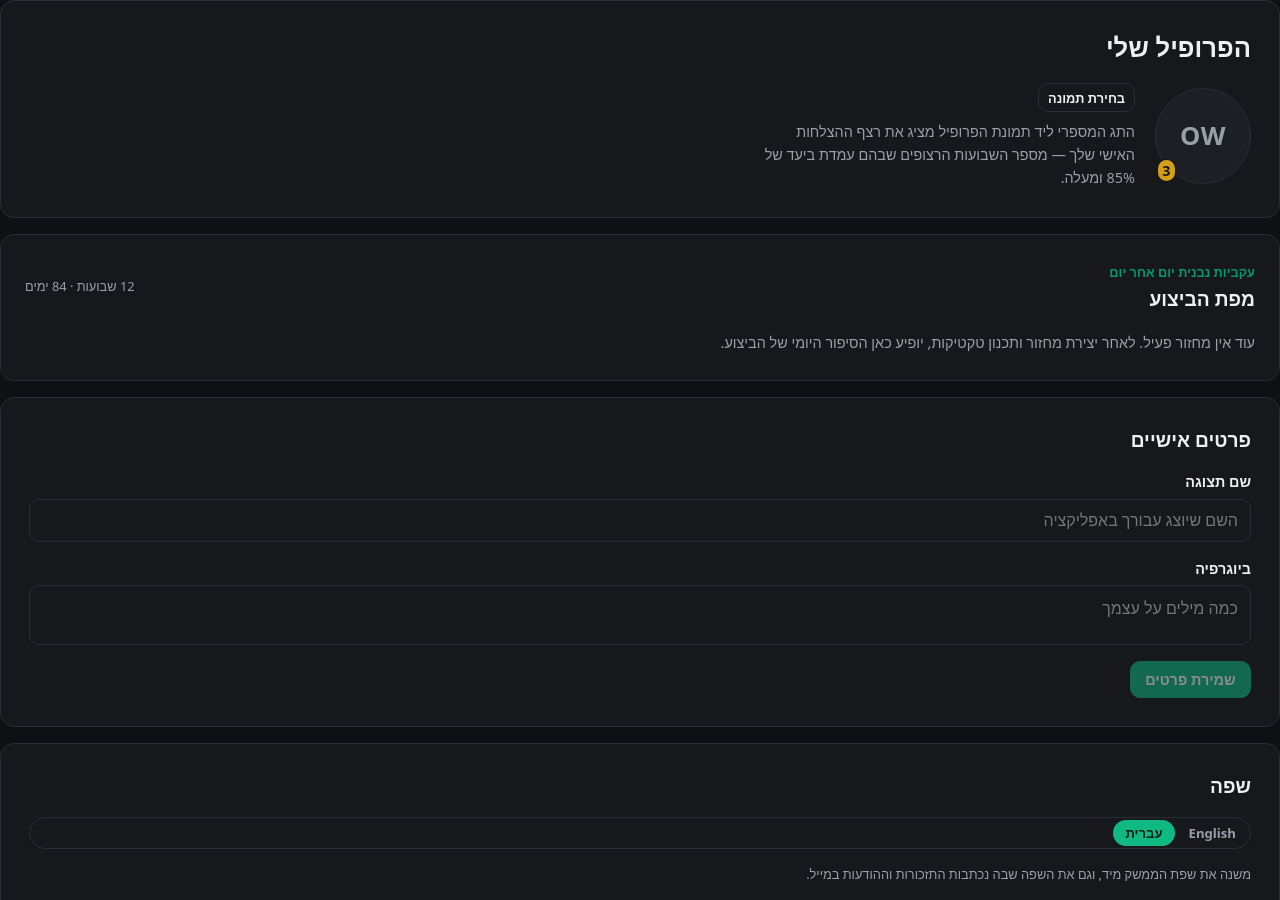
Scenario: ProfilePage › saves display name and bio via PATCH, trimming is left to the server but the button is disabled while empty
This screenshot has width=1280, height=900.
Check: the heading "הפרופיל שלי" is shown, box left=1106, top=30, right=1251, bottom=65
Check: the button "שמירת פרטים" is disabled, box left=1130, top=661, right=1251, bottom=698
Type "אורי" into the field labelled "שם תצוגה" at (640, 520), box left=29, top=499, right=1251, bottom=542
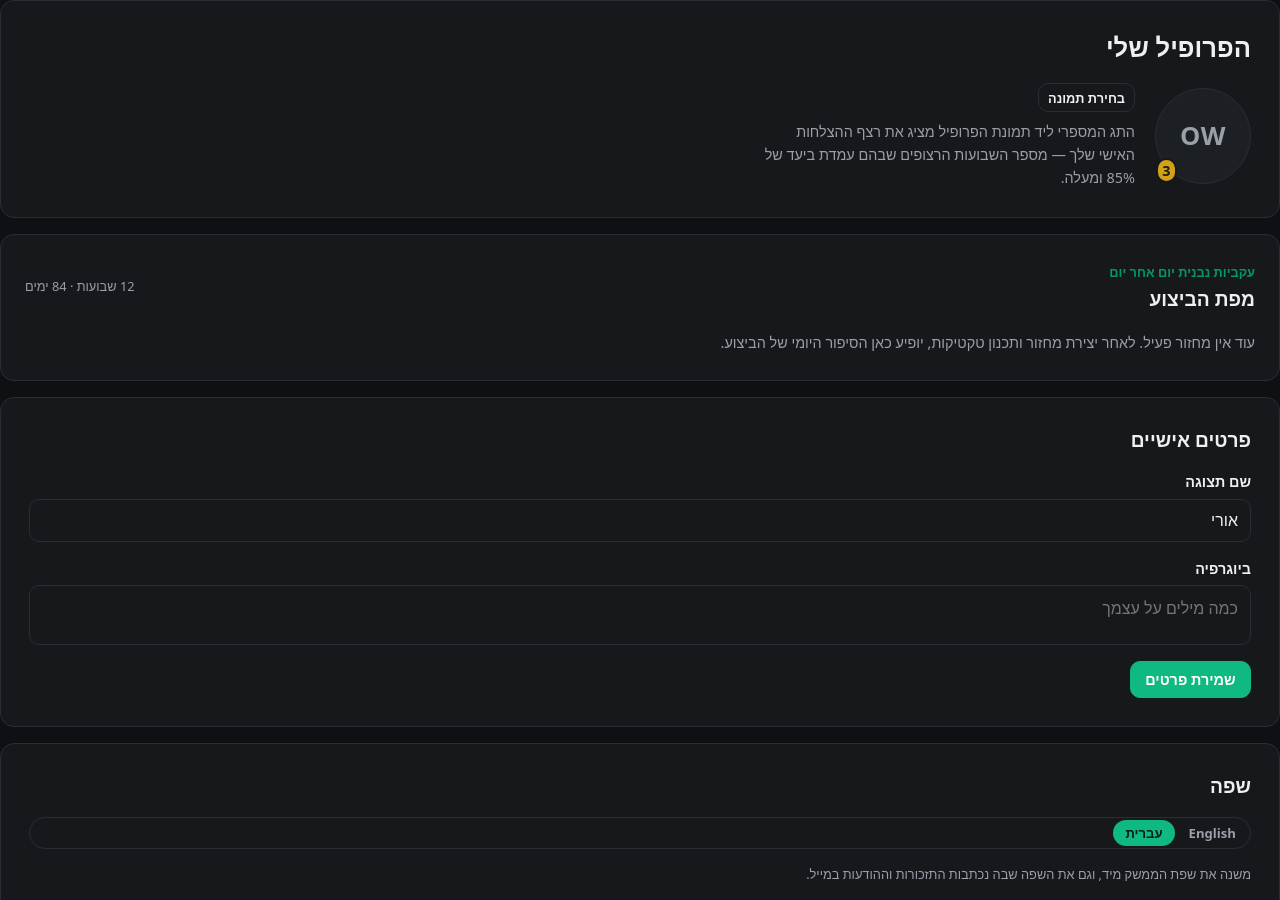
Type "ביו" into the text box labelled "ביוגרפיה" at (640, 615), box left=29, top=585, right=1251, bottom=645
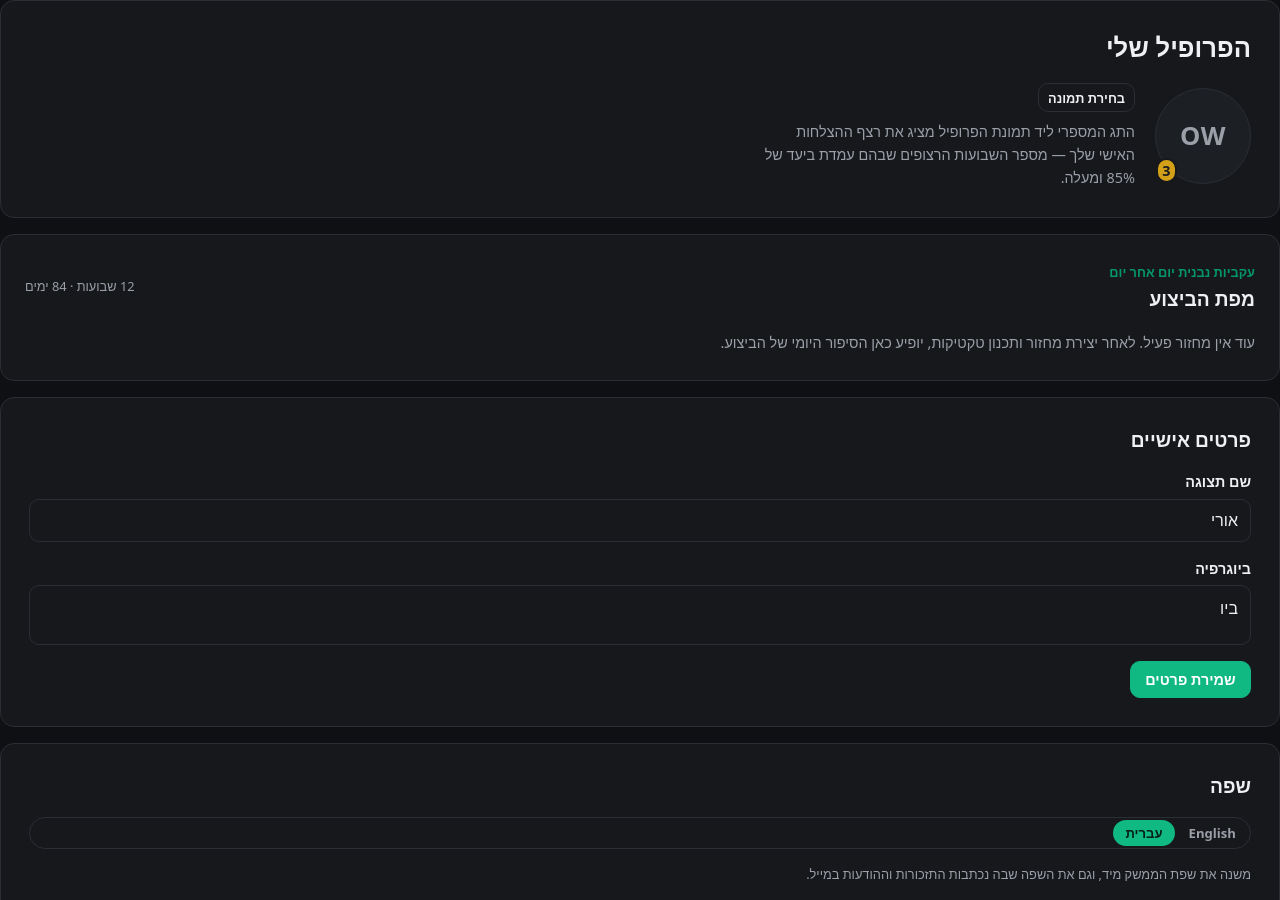
Check: the button "שמירת פרטים" is enabled
Click the button "שמירת פרטים" at (1190, 680), box left=1130, top=661, right=1251, bottom=698
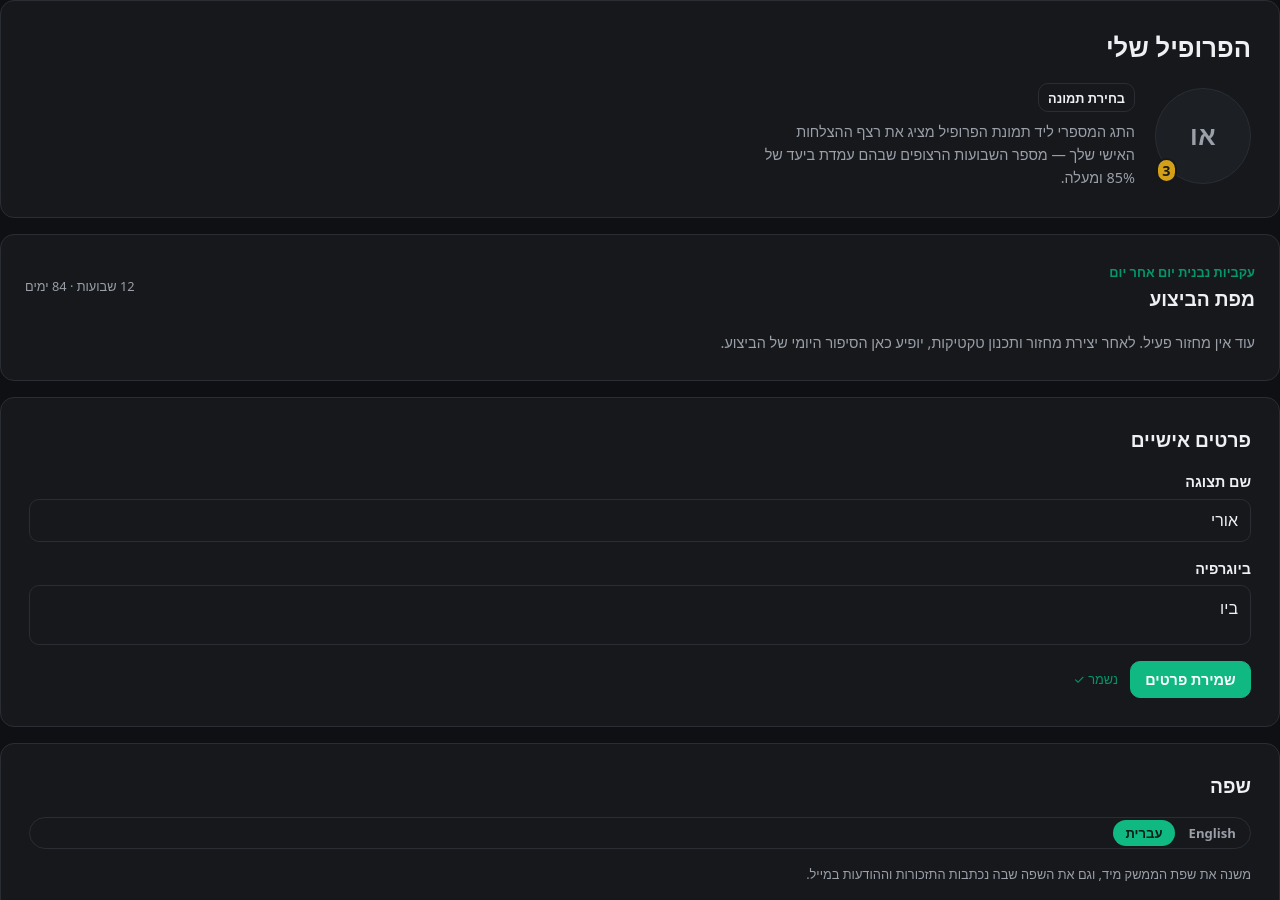
Check: the text "נשמר ✓" is shown, box left=1074, top=670, right=1118, bottom=689
